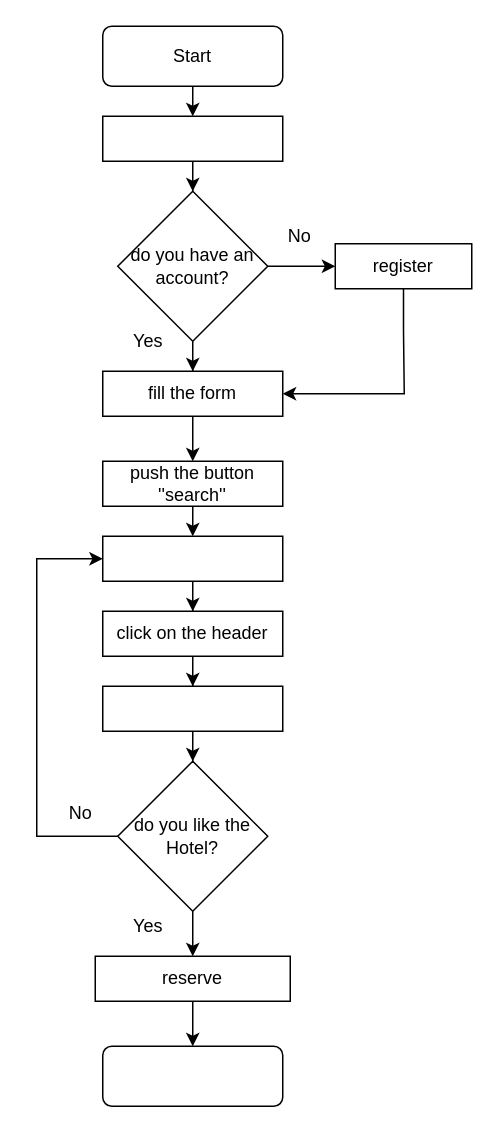
This 498x1133 diagram has some shape labels left out. Here are the shapes that lost their labels. From the top down, the centre of each, then its label:
At point (192, 138): "open booking.com".
At point (192, 558): "choose the hotel".
At point (192, 708): "read comments and description".
At point (192, 1075): "finish".
